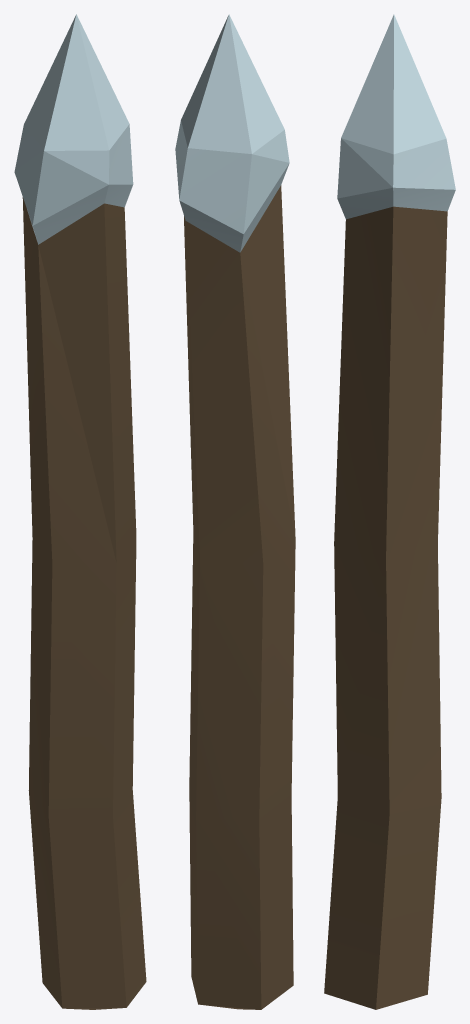
The model's file is Pua02.glb.
3 views of the same model, side by side, from view 1: azimuth 90°, elevation 25°; view 2: azimuth 150°, elevation 25°; view 3: azimuth 270°, elevation 25° (orthographic).
Visible parts, largest first — view 1: SM_Prop_Wood_Spike_02_Snow; view 2: SM_Prop_Wood_Spike_02_Snow; view 3: SM_Prop_Wood_Spike_02_Snow.
Boxes of the visible parts, x1,y1,x2,y2 form: SM_Prop_Wood_Spike_02_Snow: (14,14,146,1009); SM_Prop_Wood_Spike_02_Snow: (175,14,295,1009); SM_Prop_Wood_Spike_02_Snow: (324,14,455,1009).
Bounding box in the file's own units: 0.1407 × 1.34 × 0.1609.
Materials: 1 (1 with a texture image).
